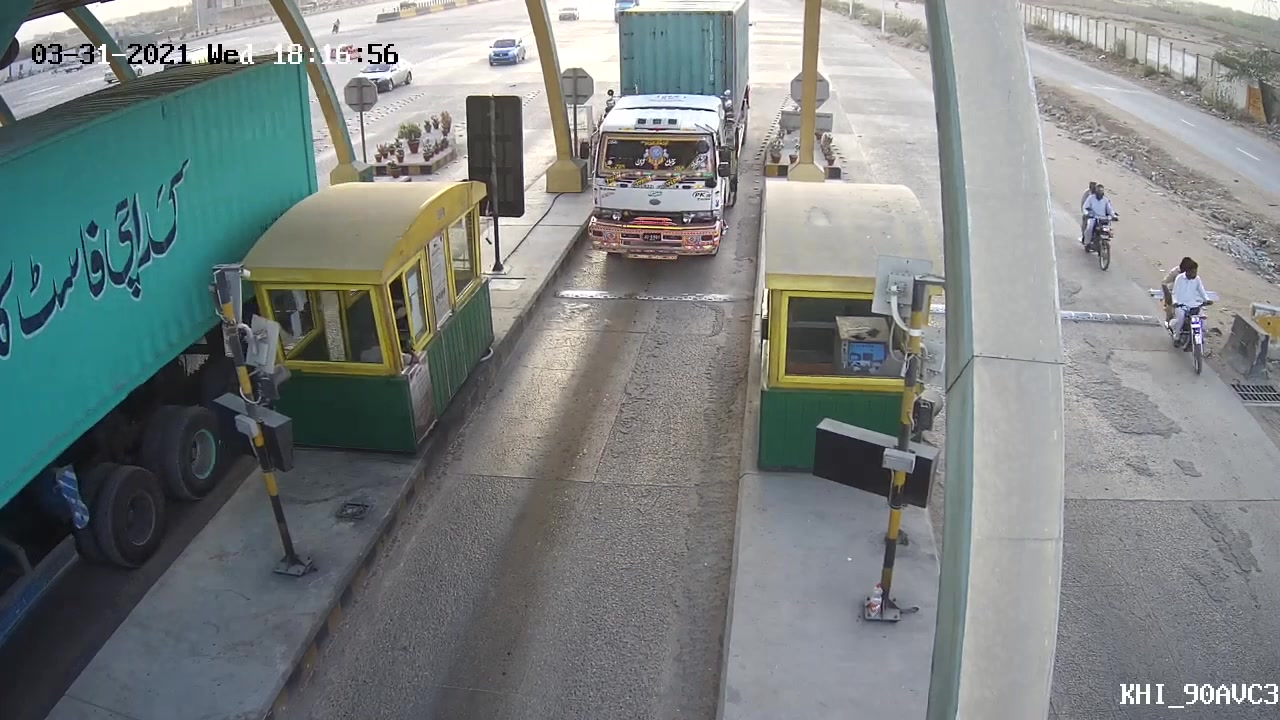F6: (576, 29, 759, 268)
